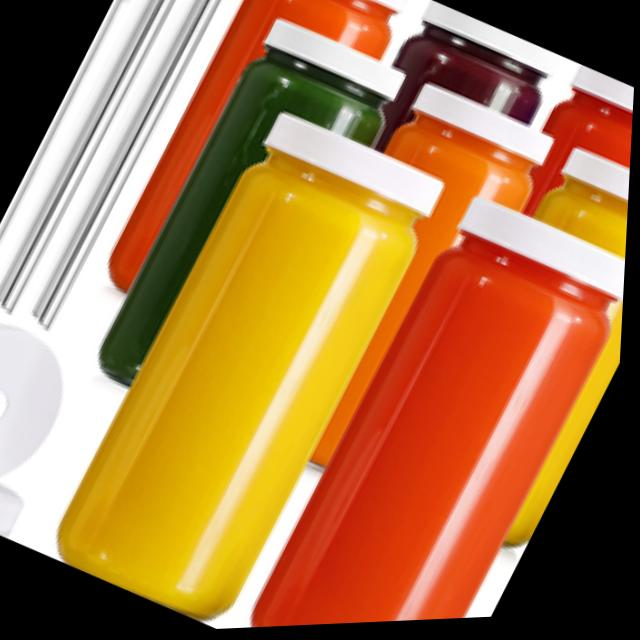glass_beverage_bottles: (42, 97, 457, 638), (255, 198, 631, 630), (383, 74, 570, 215), (240, 9, 419, 147), (409, 1, 576, 120), (535, 142, 633, 270), (541, 64, 636, 193), (247, 0, 414, 59)
